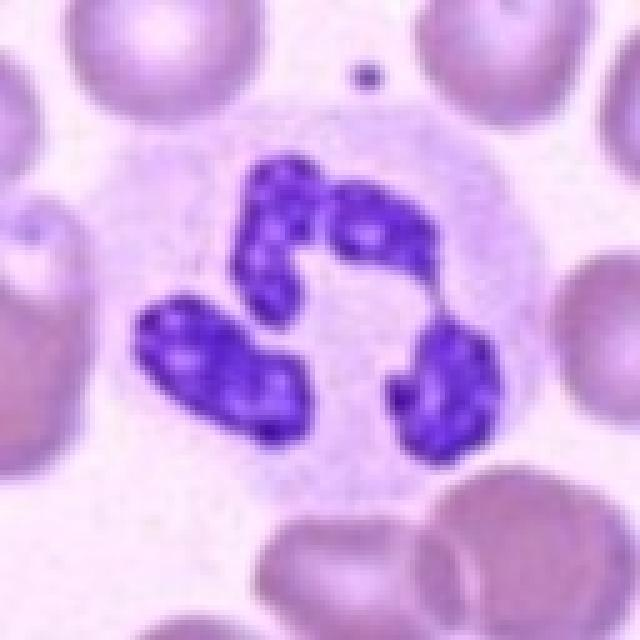neutro: (62, 92, 591, 533)
